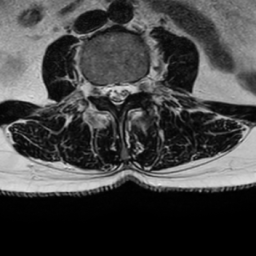CCS_normal: (114, 74, 121, 115)
LFS_normal: (132, 70, 142, 99)
LLS_normal: (121, 74, 132, 105)
RFS_normal: (96, 74, 105, 105)
RLS_normal: (105, 76, 114, 107)
